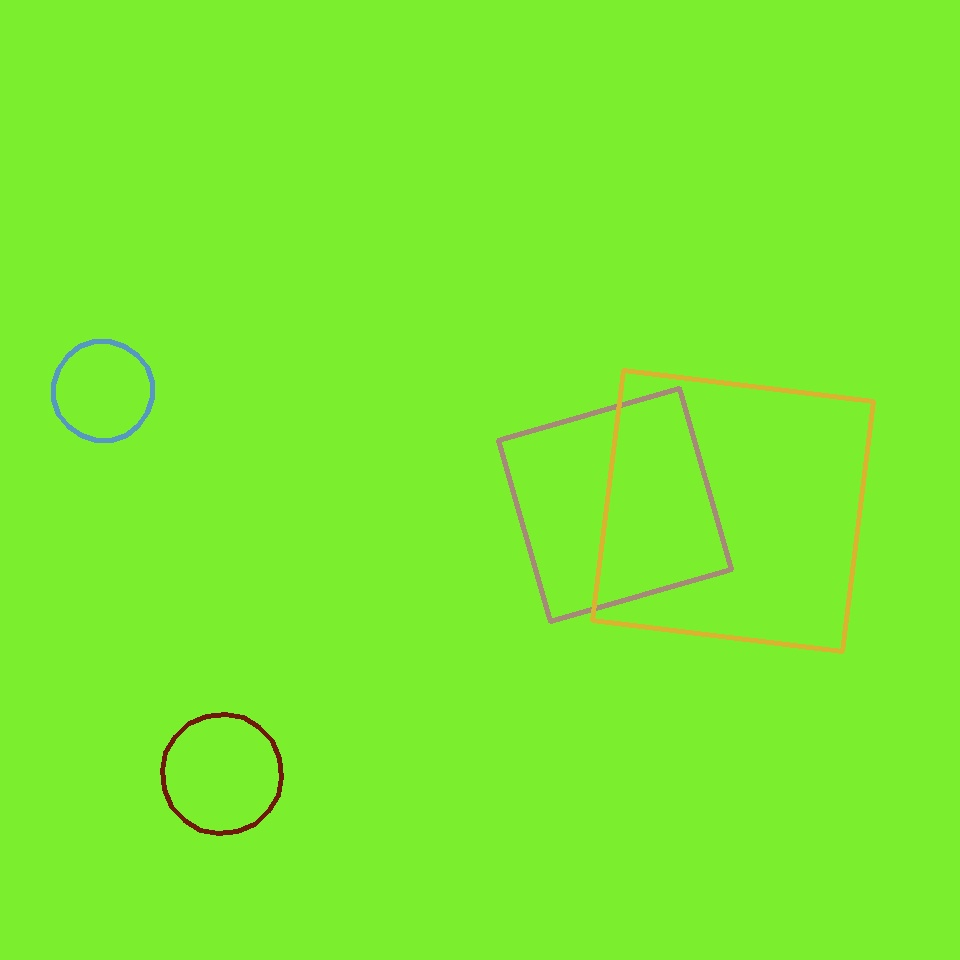square: (592, 371, 874, 652), (498, 388, 732, 622)
triangle: (162, 714, 282, 834), (54, 342, 152, 440)
